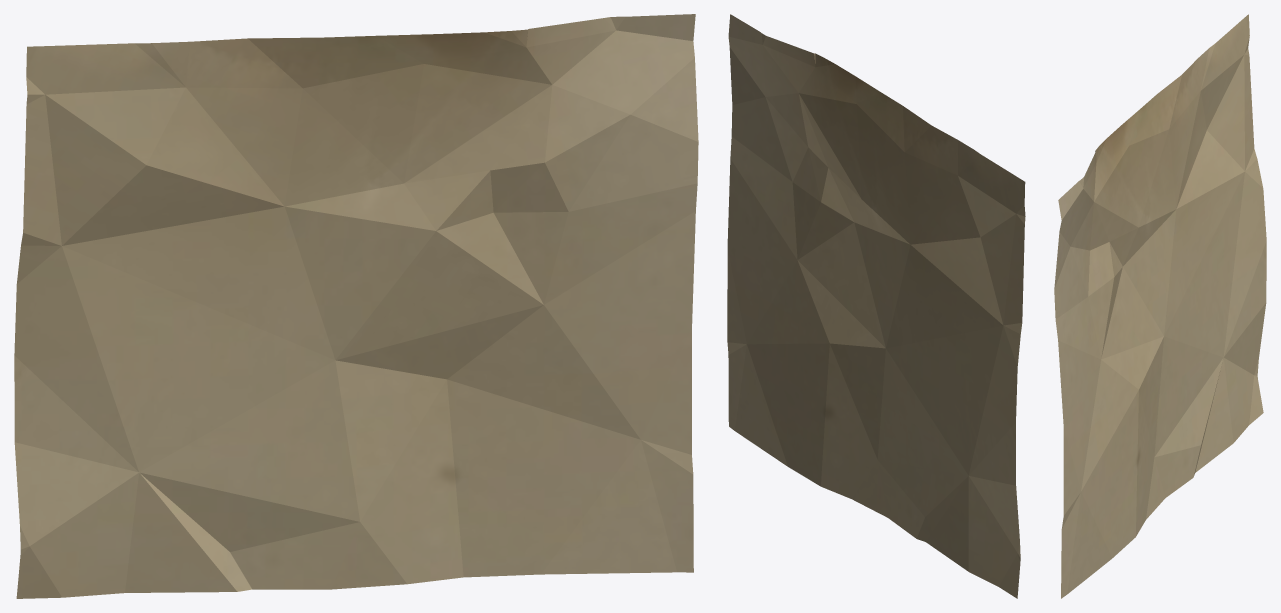
The picture shows the model from 3 angles, left to right: view 1: azimuth 30°, elevation 25°; view 2: azimuth 150°, elevation 25°; view 3: azimuth 270°, elevation 25°; orthographic projection. The views are drawn at different scales.
Size of the model in its own units: 0.8373 by 0.8374 by 0.4041.
3 materials, 3 textured.
